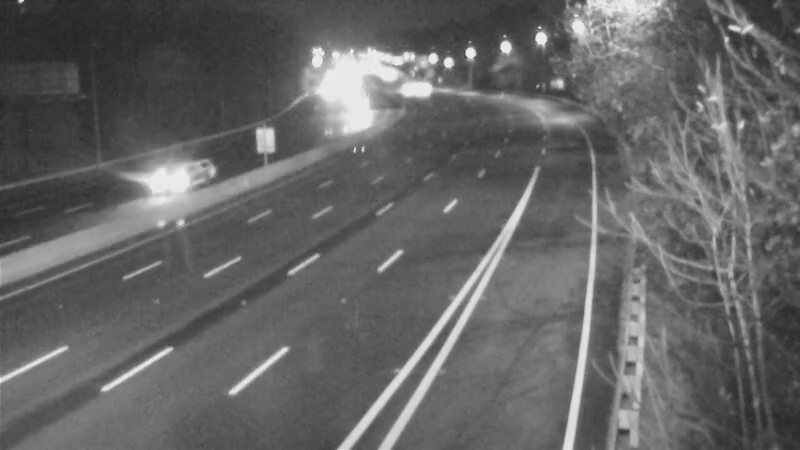vehicle: (133, 142, 213, 222), (327, 94, 377, 144)
